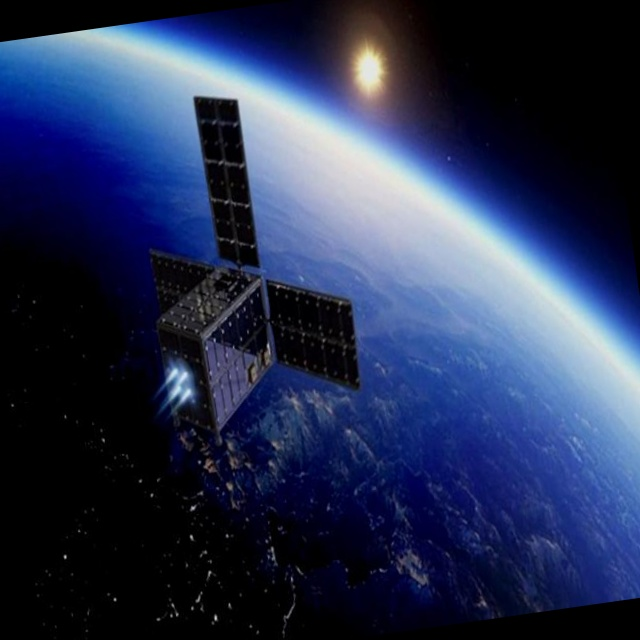medium_debris: (111, 77, 384, 495)
